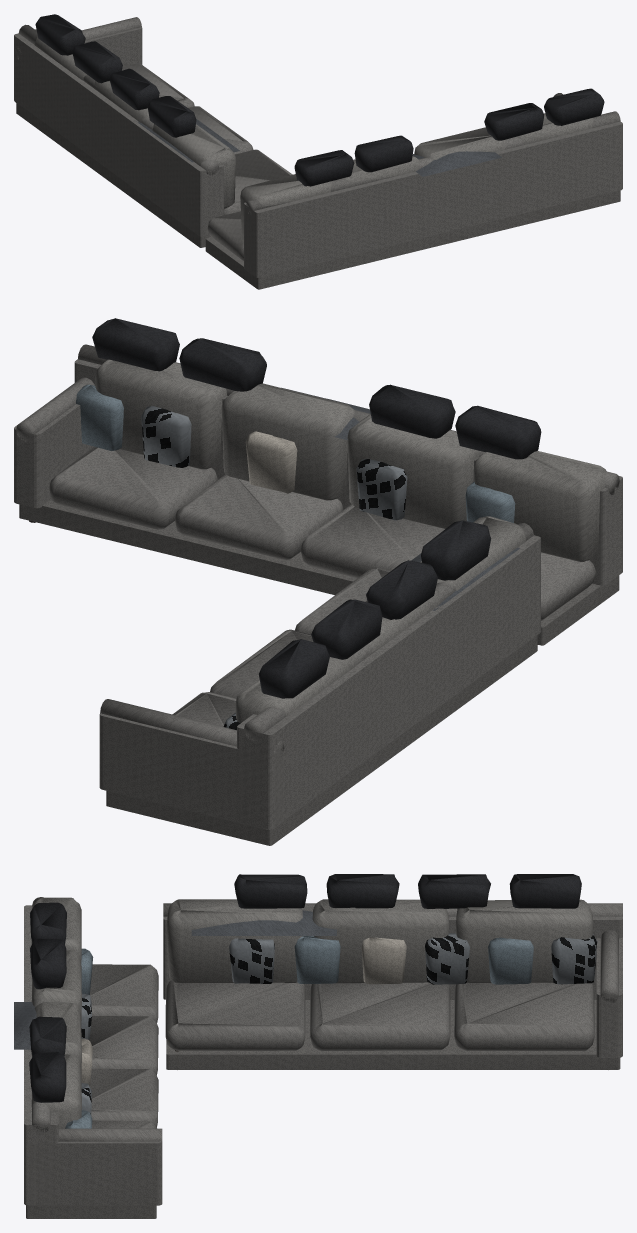
File: Movie_Sectional.glb
The picture shows the model from 3 angles, top to bottom: view 1: azimuth 30°, elevation 25°; view 2: azimuth 150°, elevation 25°; view 3: azimuth 270°, elevation 25°; orthographic projection. The views are drawn at different scales.
Parts seen in each view (by area): view 1: root; view 2: root; view 3: root.
Part boxes in pixels (x1,y1,x2,y2): root: (14, 14, 622, 289); root: (14, 318, 622, 845); root: (14, 874, 622, 1218).
Size of the model in its own units: 3.38 by 0.9754 by 3.96.
Materials: 10 (8 with a texture image).
